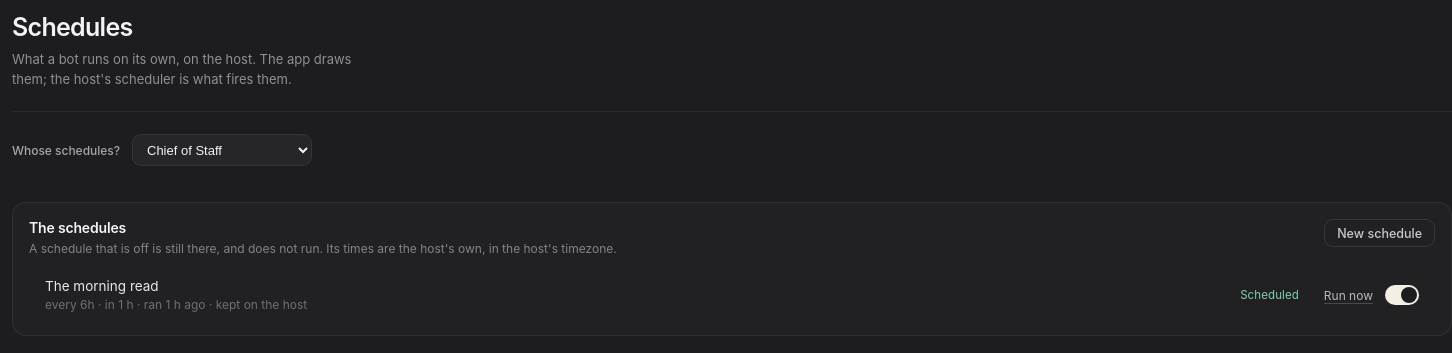
Test case: the schedules page › turns a schedule off on the host, and draws the host answer
Expected: the text "The morning read" is shown, [45,278,159,294]
Click the switch named "Pause The morning read". click: click(1402, 295)
box: [1385,285,1419,305]
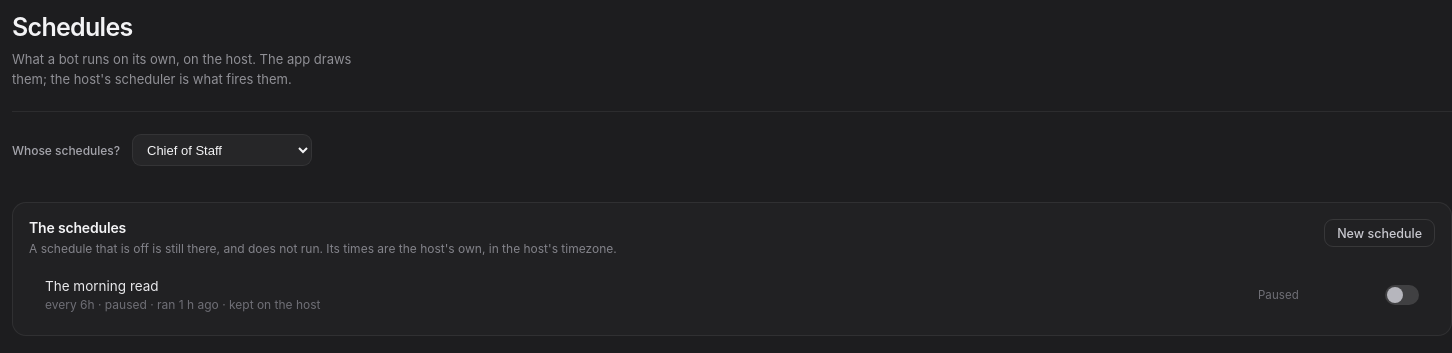
Expected: the text "Paused" is shown, [1258,288,1299,302]
